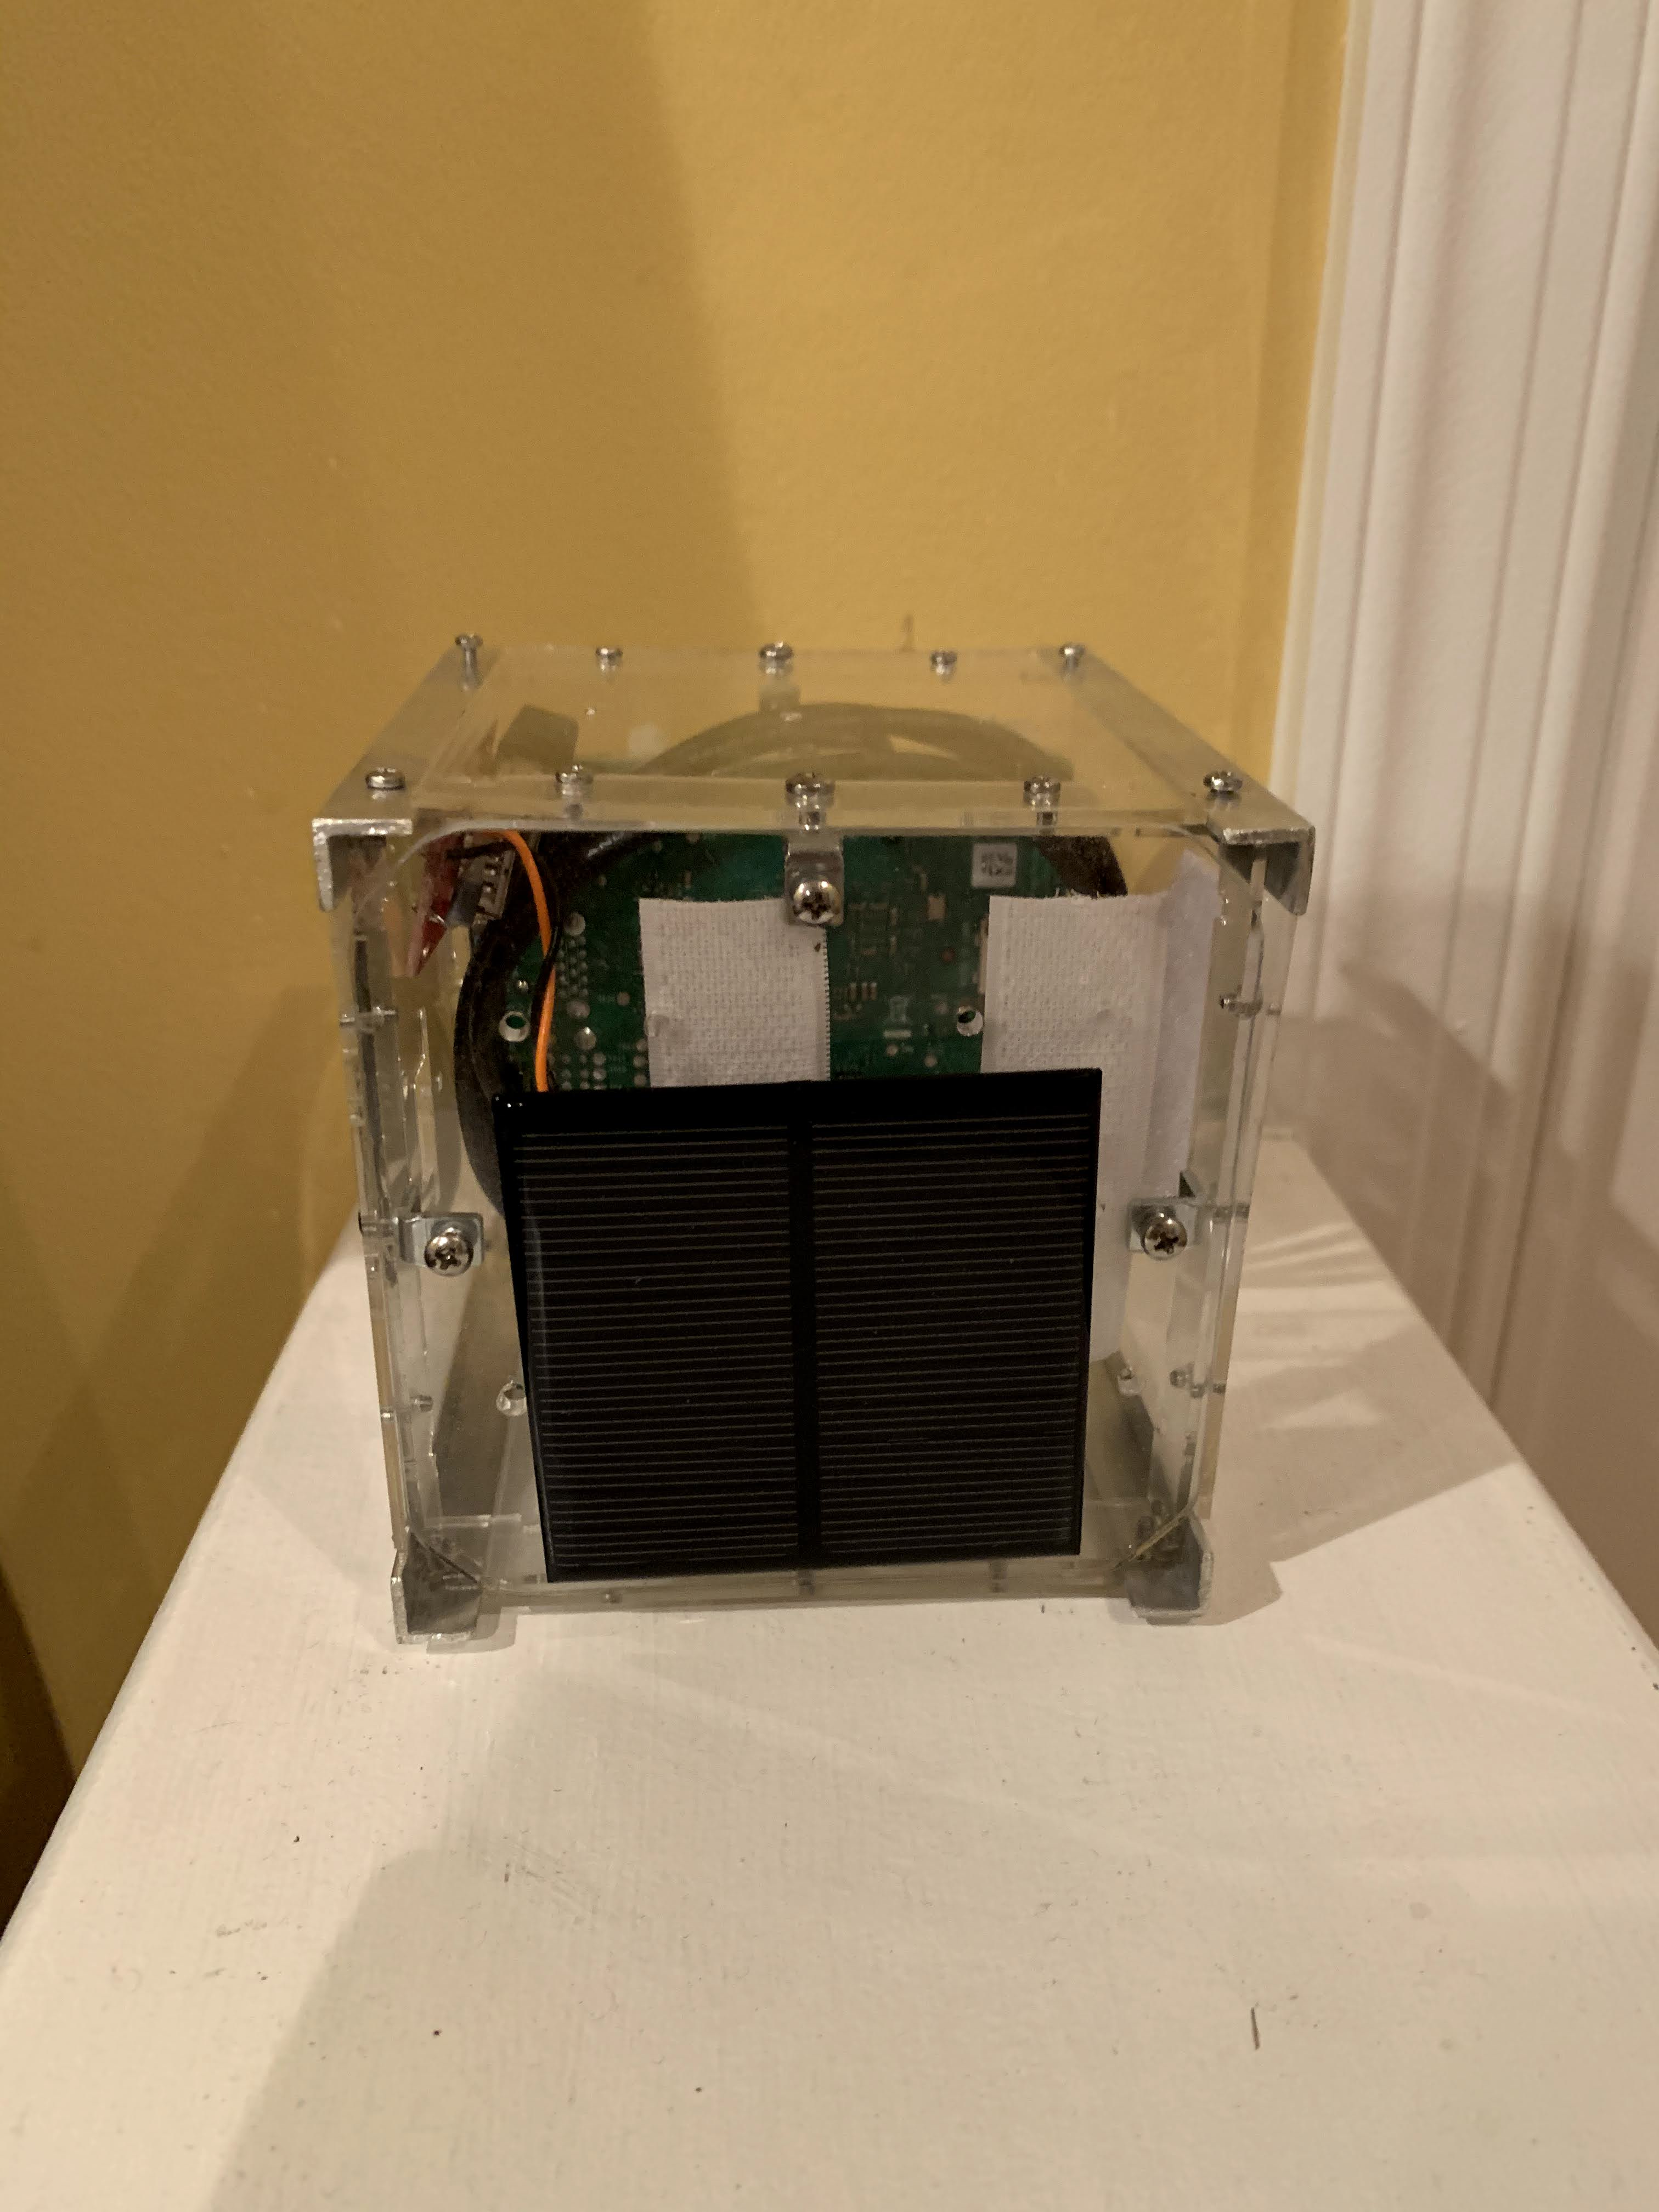Space-debris-cubesat: (298, 557, 1384, 1667)
